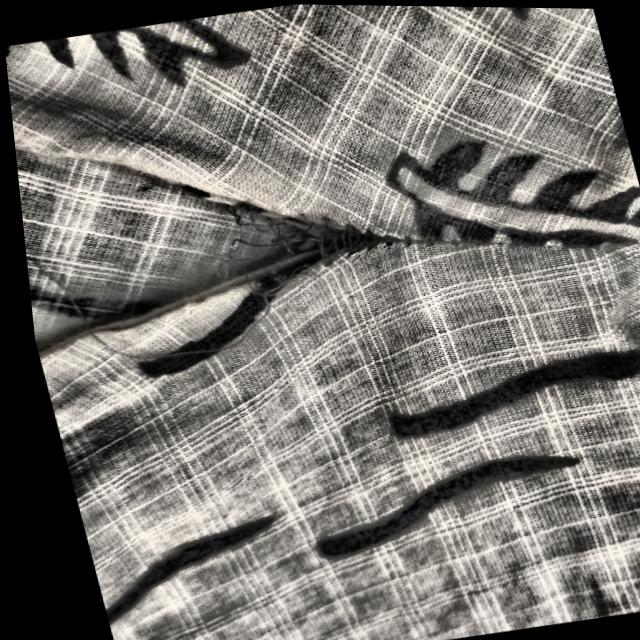Stitch: (34, 162, 411, 409)
